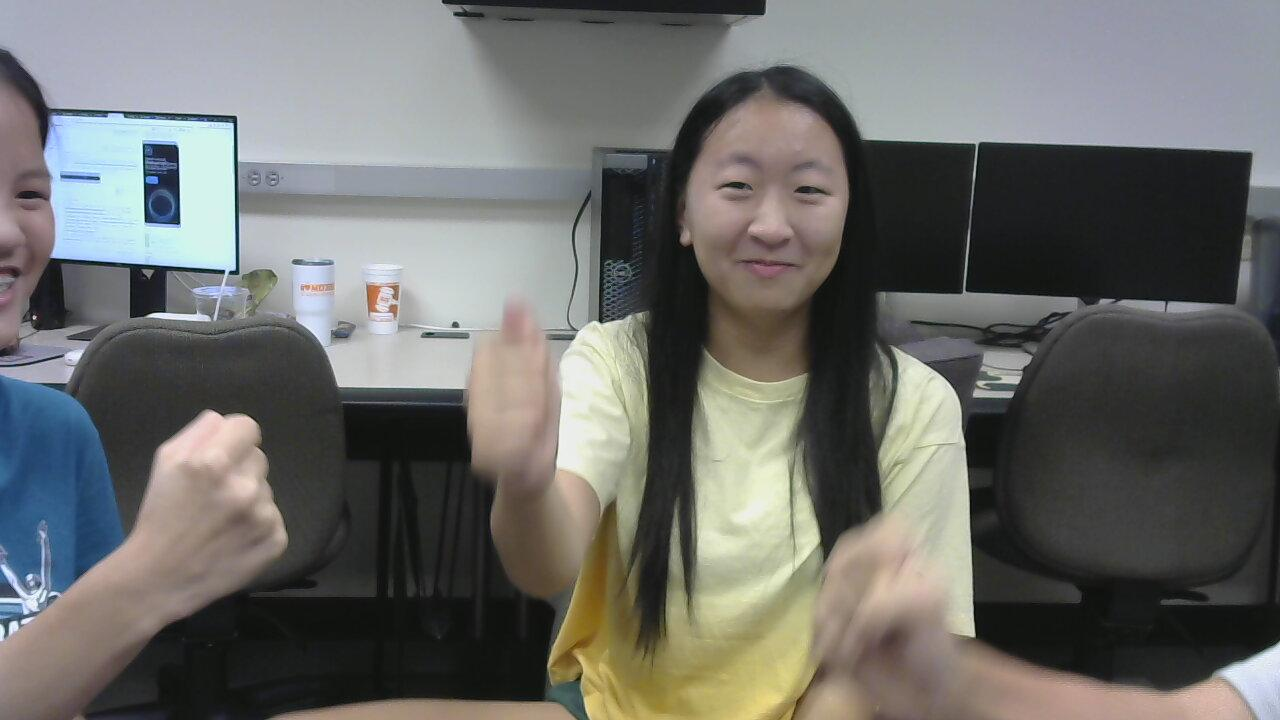fist: (141, 392, 310, 617), (802, 515, 987, 720), (456, 295, 574, 490)
